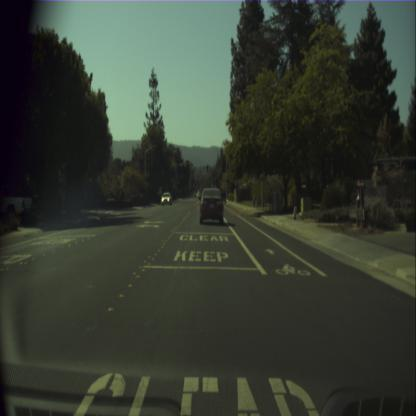Green: (206, 165, 208, 171)
